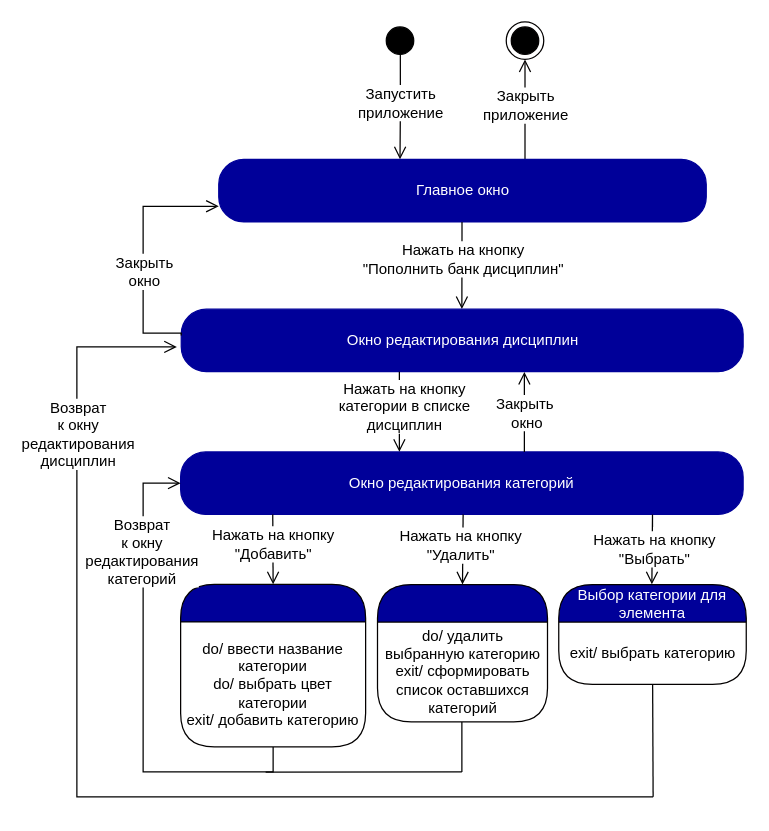
The diagram is 769 pixels wide and 831 high, and some of its shapes have lost their labels. The shapes that lost their labels are listed below. From the top down, each one's box as (x1, y1, x2, y2) in pixels, then its label:
(179, 583, 366, 747): Добавление категории
(376, 583, 548, 722): Удаление категории
